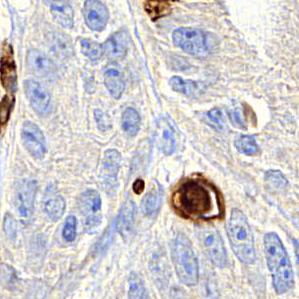Lymphocyte: (168, 171, 228, 225)
